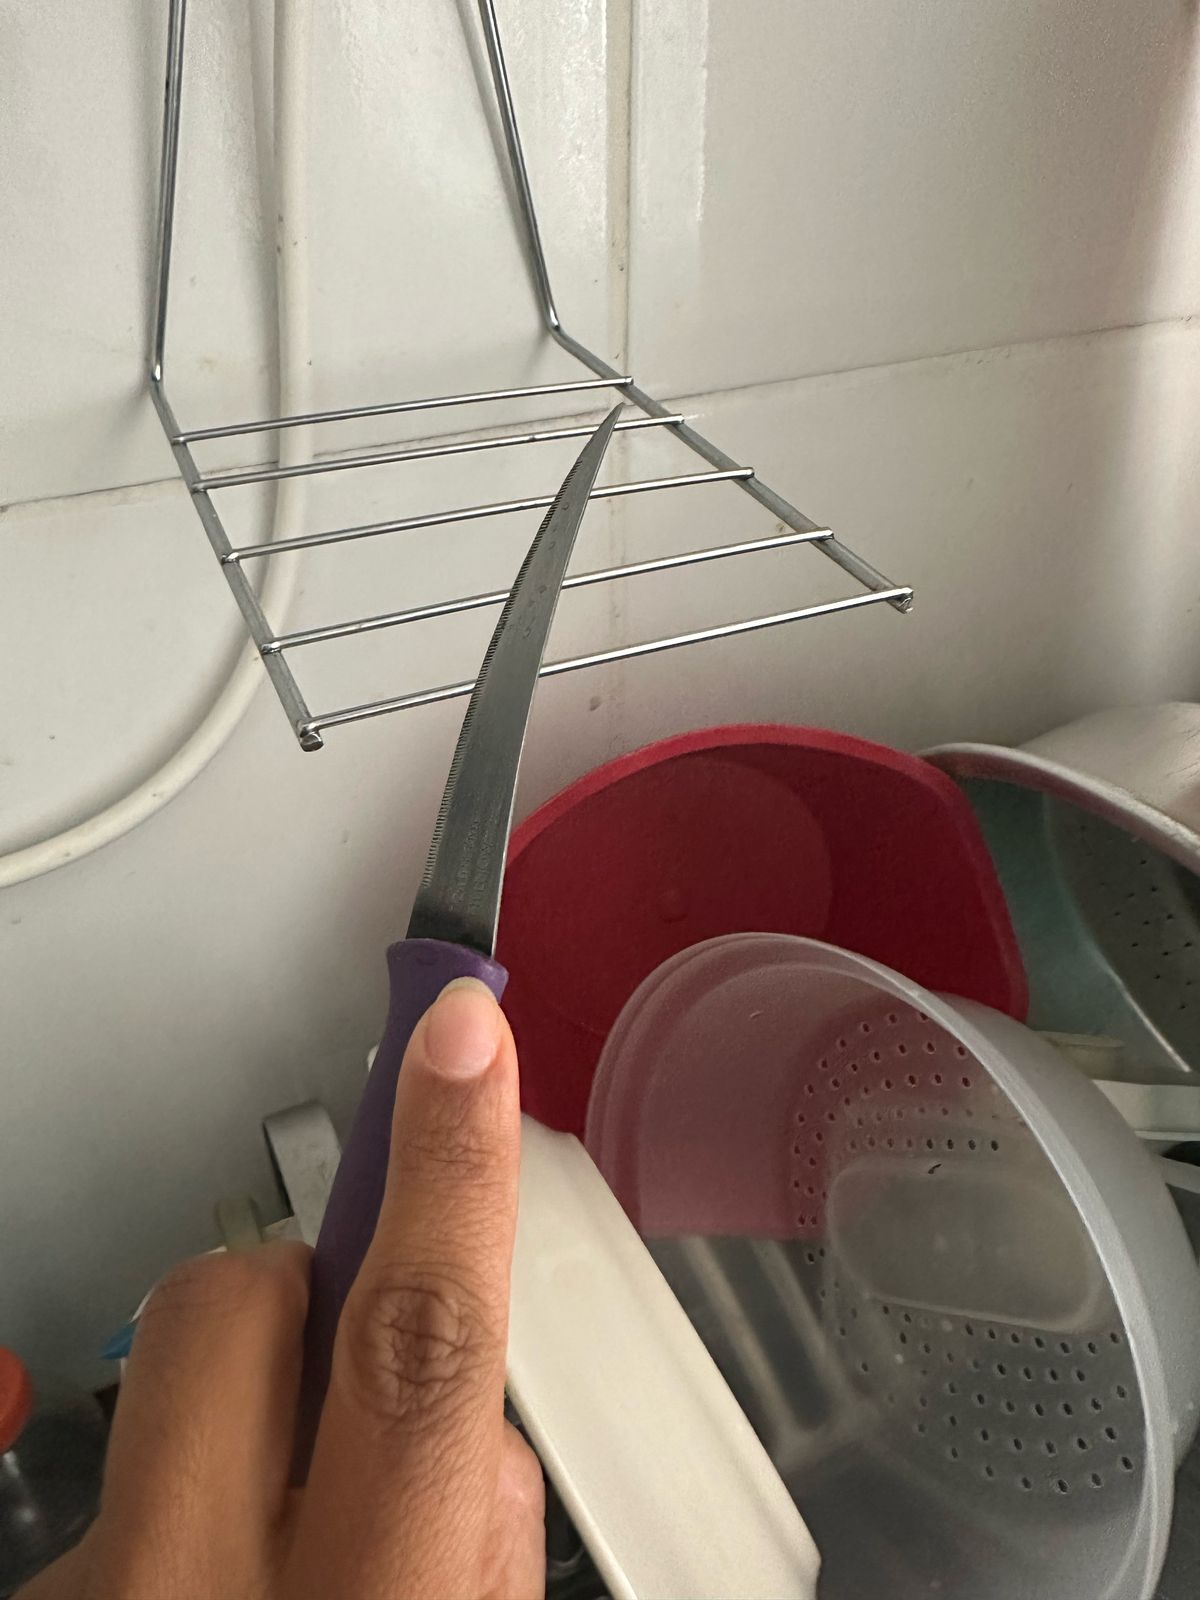faca: (350, 393, 648, 980)
